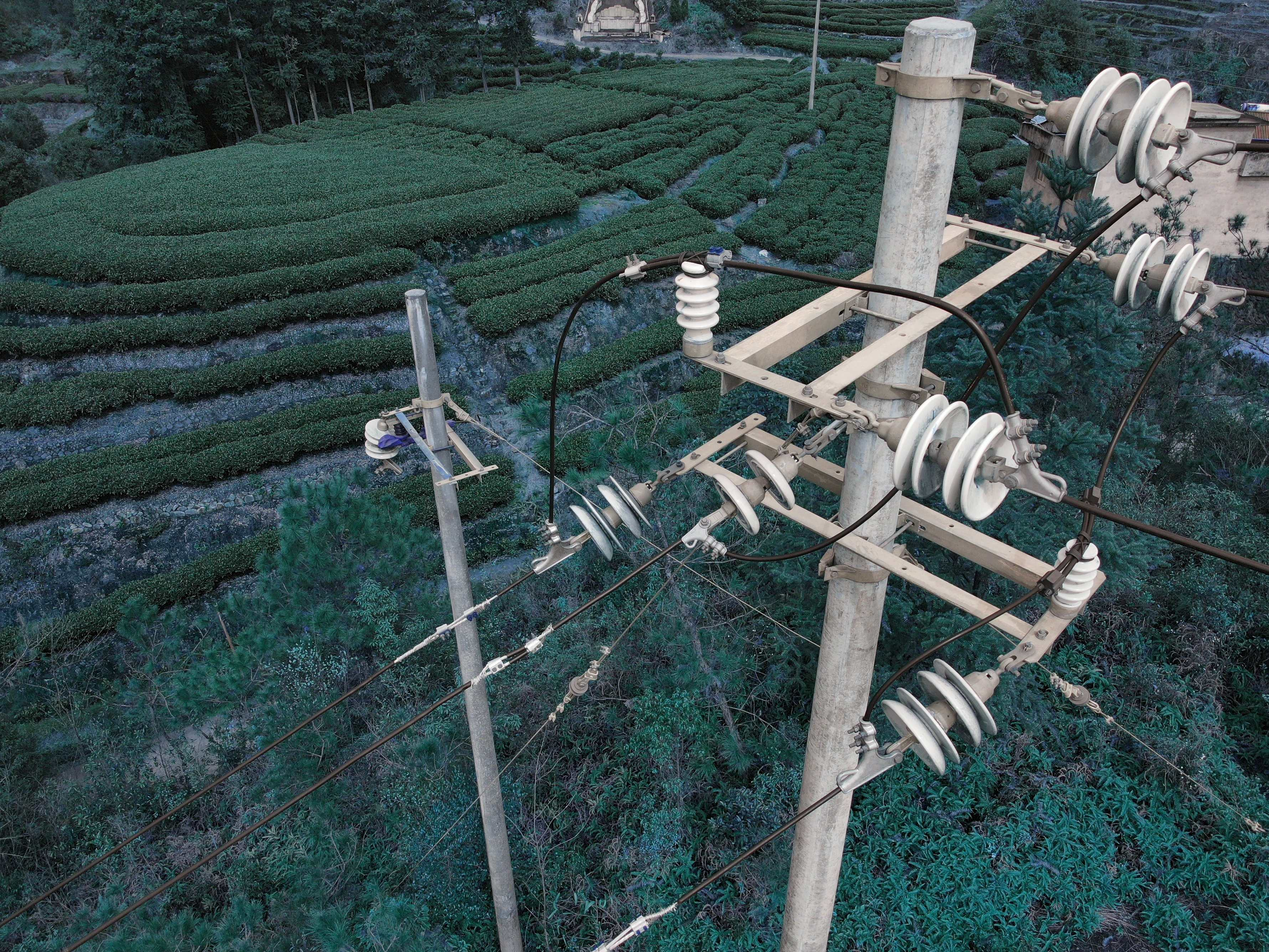severe_soiling_no_discharge_whole: (1045, 65, 1196, 192), (877, 391, 1018, 521), (880, 655, 1003, 778), (1095, 232, 1214, 322), (710, 446, 800, 536), (570, 474, 656, 562)
